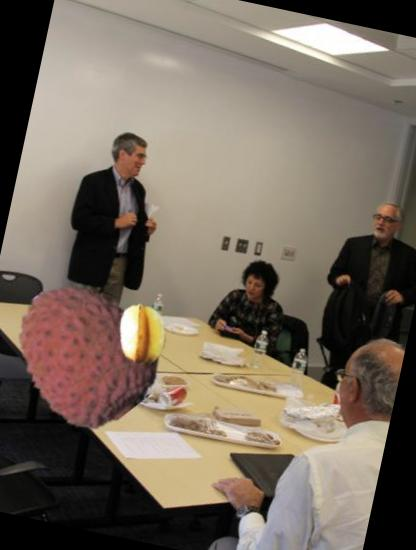Carambula: (106, 296, 180, 370)
Lychee: (0, 264, 173, 441)
